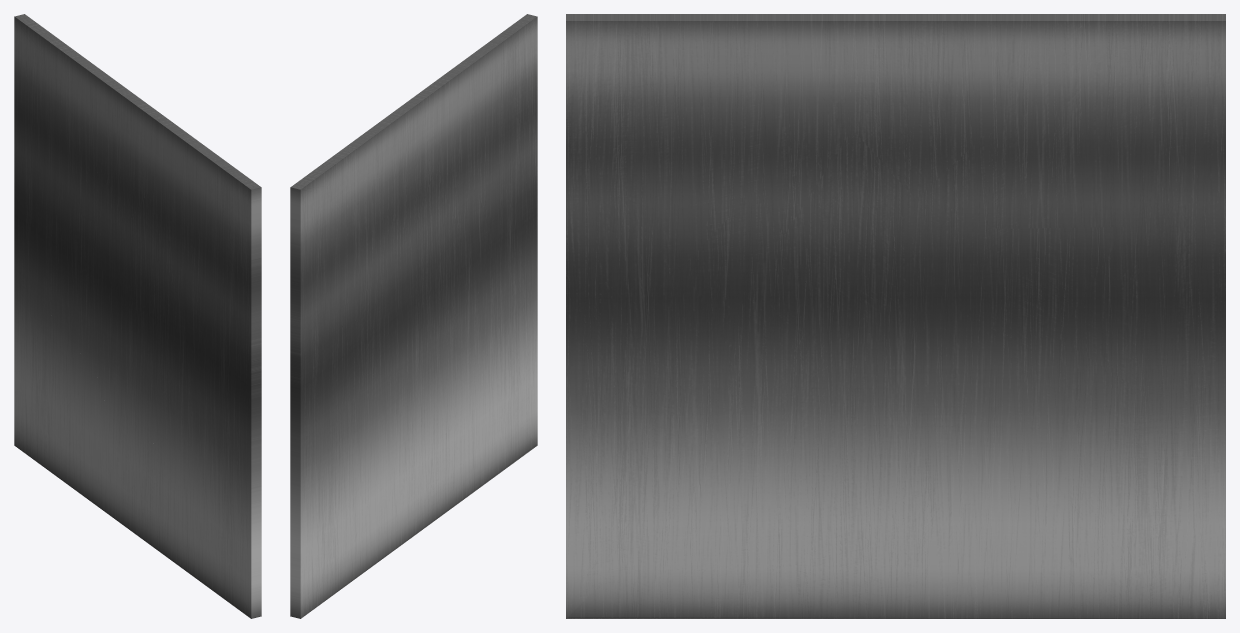
Rendered from Wall with hole.fbx.
3 renders of one model, left to right at view 1: azimuth 30°, elevation 25°; view 2: azimuth 150°, elevation 25°; view 3: azimuth 270°, elevation 25°, orthographic. The views are drawn at different scales.
Visible parts, largest first — view 1: Floor with hole, Hole filling; view 2: Floor with hole, Hole filling; view 3: Floor with hole, Hole filling.
Boxes of the visible parts, bbox=[...] form: Floor with hole: bbox=[14, 14, 261, 618]; Hole filling: bbox=[14, 154, 250, 618]; Floor with hole: bbox=[290, 14, 537, 618]; Hole filling: bbox=[300, 170, 537, 618]; Floor with hole: bbox=[566, 14, 1225, 618]; Hole filling: bbox=[566, 127, 1225, 618].
Size of the model in its own units: 15.39 by 600 by 600.
2 materials, 2 textured.
